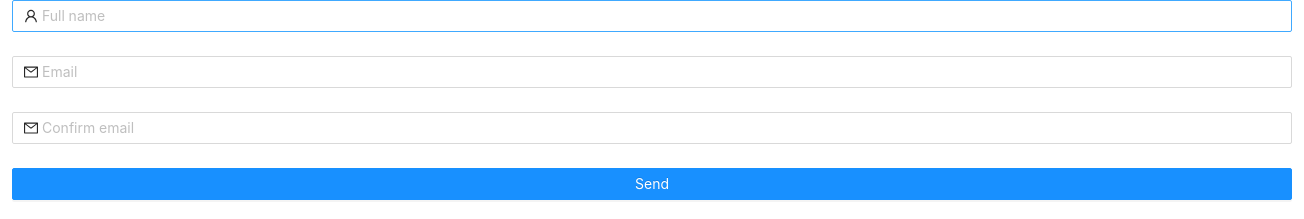
Scenario: invalid full name
The width and height of the screenshot is (1304, 219).
Type "aa" into the field with placeholder "Full name". click: (661, 16)
box: [42,5,1280,27]
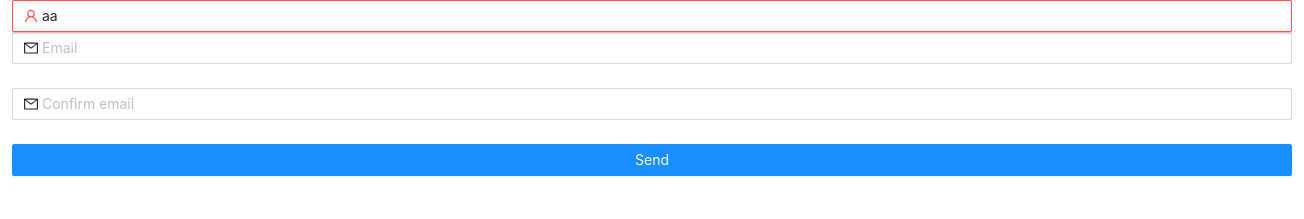
Now the text "at least 3 characters" is shown, box [12,34,252,51]
